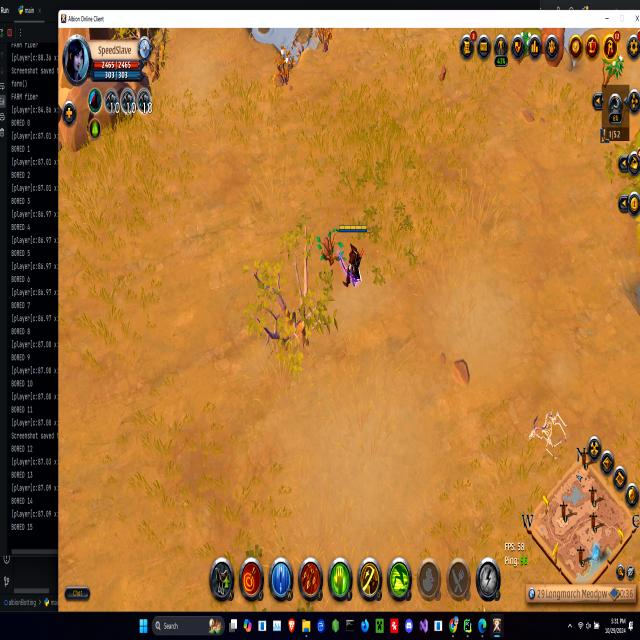hide: (275, 44, 294, 86), (314, 28, 333, 56), (516, 30, 536, 56), (605, 54, 624, 78)
red: (337, 222, 367, 288)
